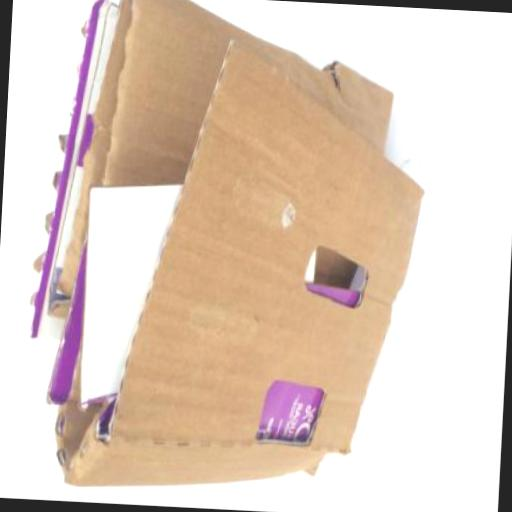cardboard: (42, 28, 434, 510), (30, 0, 397, 359)
